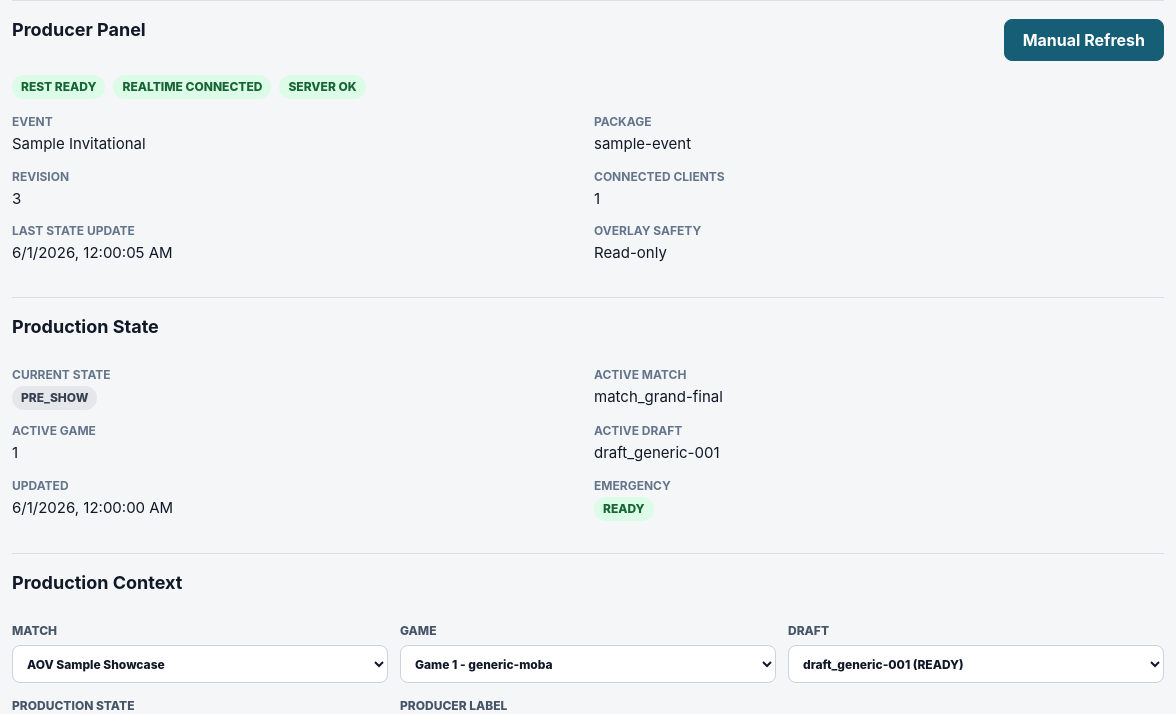
Test: ProducerPanel › updates the presentation form when the selected match changes
Select "AOV Sample Showcase" in the dropdown labelled "Match" at coordinates (200, 664), box [12,645,388,683]
(page scrolled)
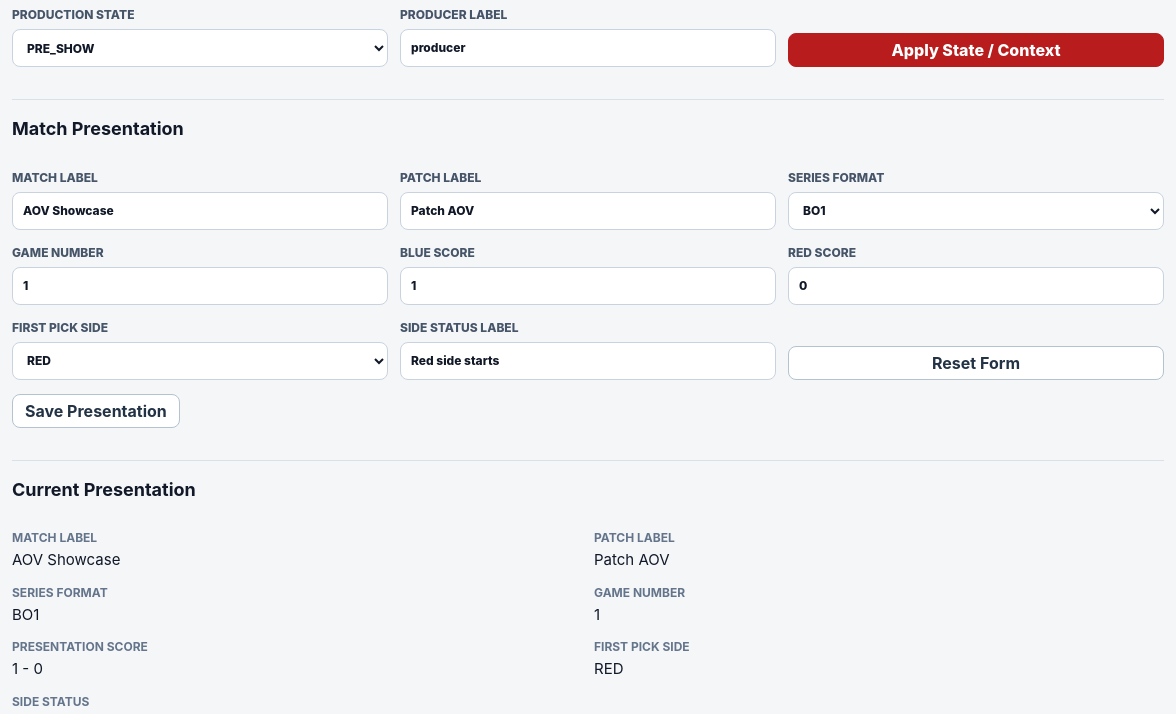
Now the field labelled "Match Label" holds "AOV Showcase", box [12,192,388,230]
Now the field labelled "Patch Label" holds "Patch AOV", box [400,192,776,230]
Now the dropdown labelled "Series Format" shows "BO1", box [788,192,1164,230]
